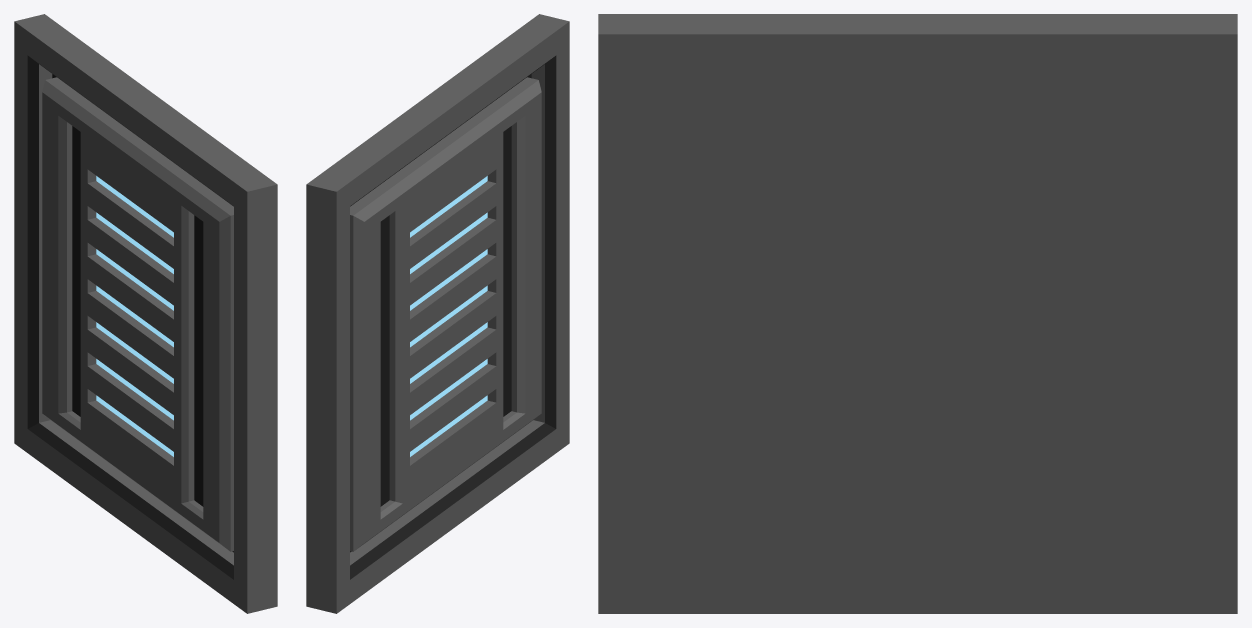
The model's file is Wall_1.fbx.
3 renders of one model, left to right at view 1: azimuth 30°, elevation 25°; view 2: azimuth 150°, elevation 25°; view 3: azimuth 270°, elevation 25°, orthographic. The views are drawn at different scales.
Visible parts, largest first — view 1: Wall_1.009; view 2: Wall_1.009; view 3: Wall_1.009.
Boxes of the visible parts, x1,y1,x2,y2 form: Wall_1.009: (14,14,277,613); Wall_1.009: (306,14,569,613); Wall_1.009: (598,14,1237,613).
Bounding box in the file's own units: 15 × 200 × 200.
